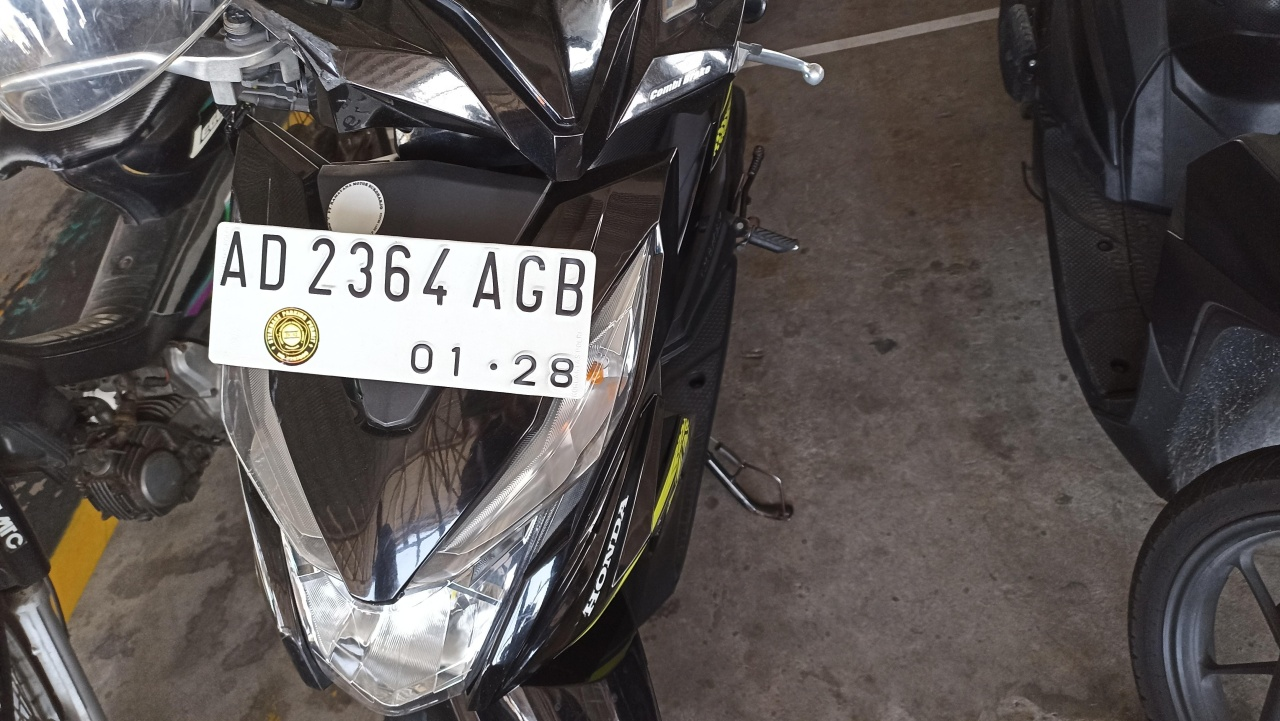plate: (208, 223, 595, 401)
